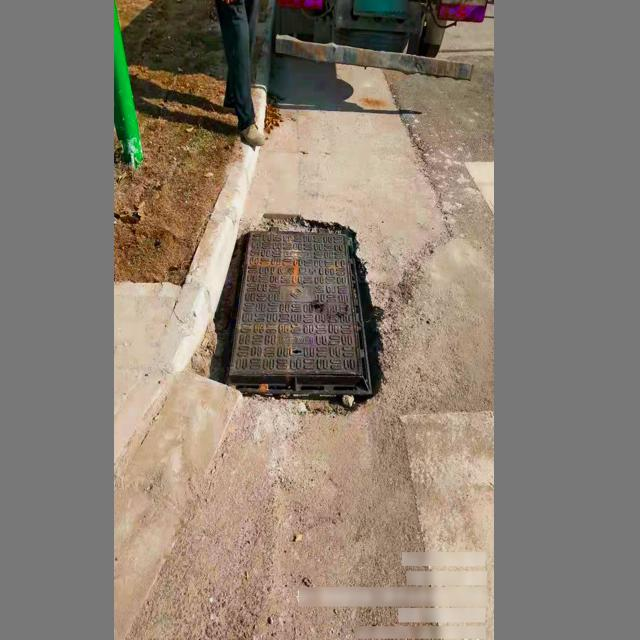circle: (207, 221, 384, 409)
